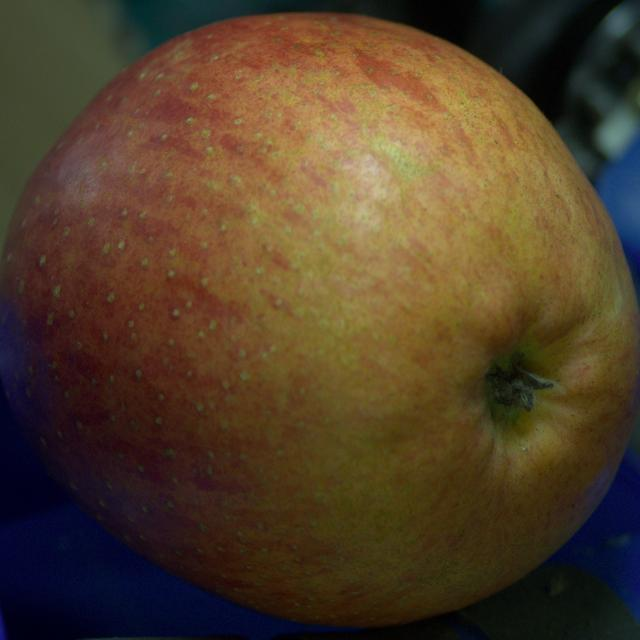apple: (0, 14, 639, 626)
